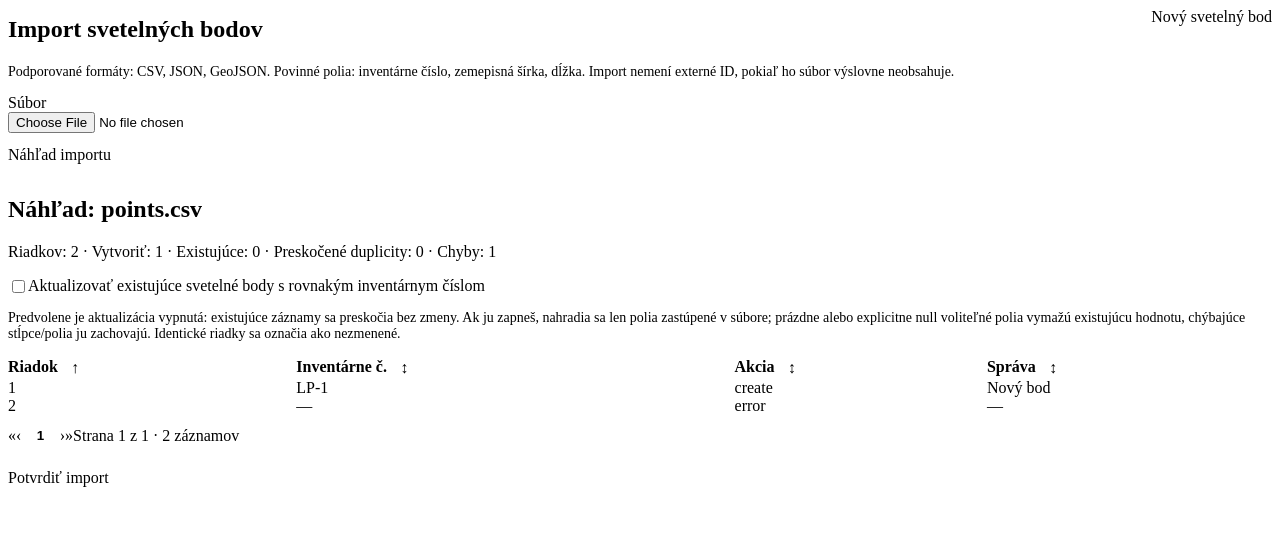
Test case: AdminImportPage › restores preview from URL, sorts by a column, and keeps last good data on a refresh error
Expected: the heading "Náhľad: points.csv" is shown, [8,196,202,222]
Click the button named "Zoradiť podľa Inventárne č., vzostupne". click: {"x": 404, "y": 367}
box: [393,356,416,379]
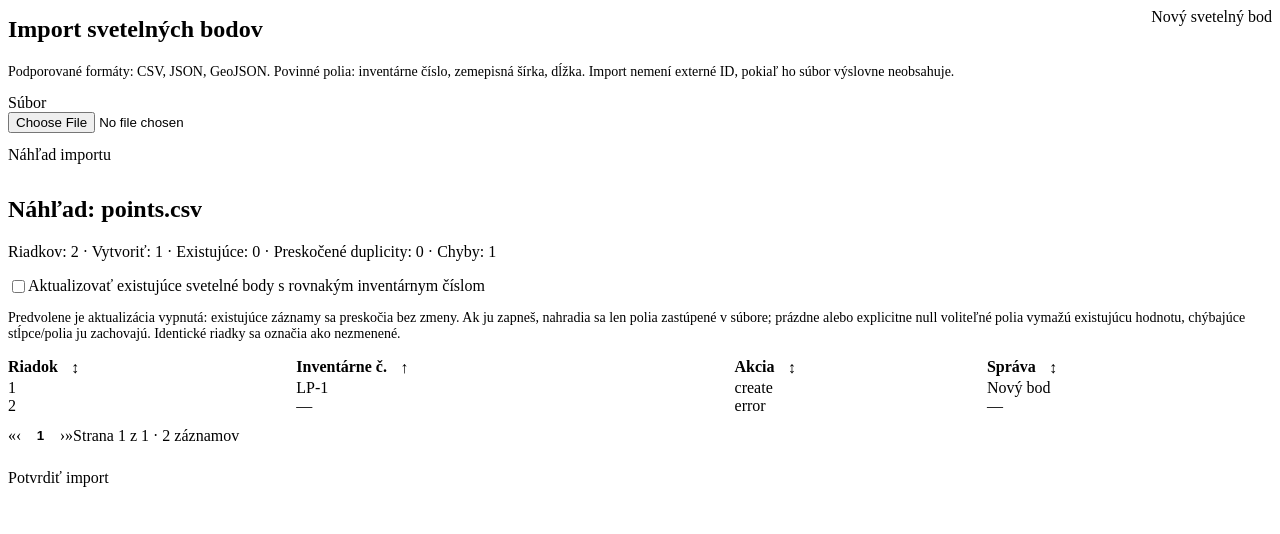
Click the button named "Zmeniť zoradenie Inventárne č. na zostupné". click: {"x": 404, "y": 367}
box: [393,356,416,379]
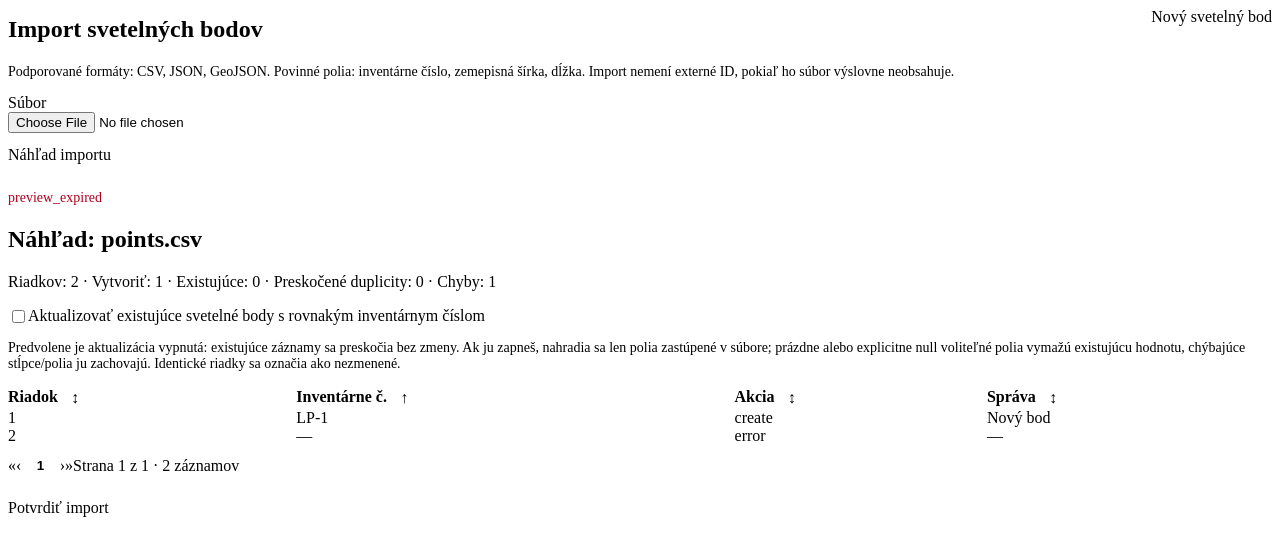
Expected: the heading "Náhľad: points.csv" is shown, [8,226,202,252]
Result: the text "preview_expired" is shown at [8,190,102,205]
